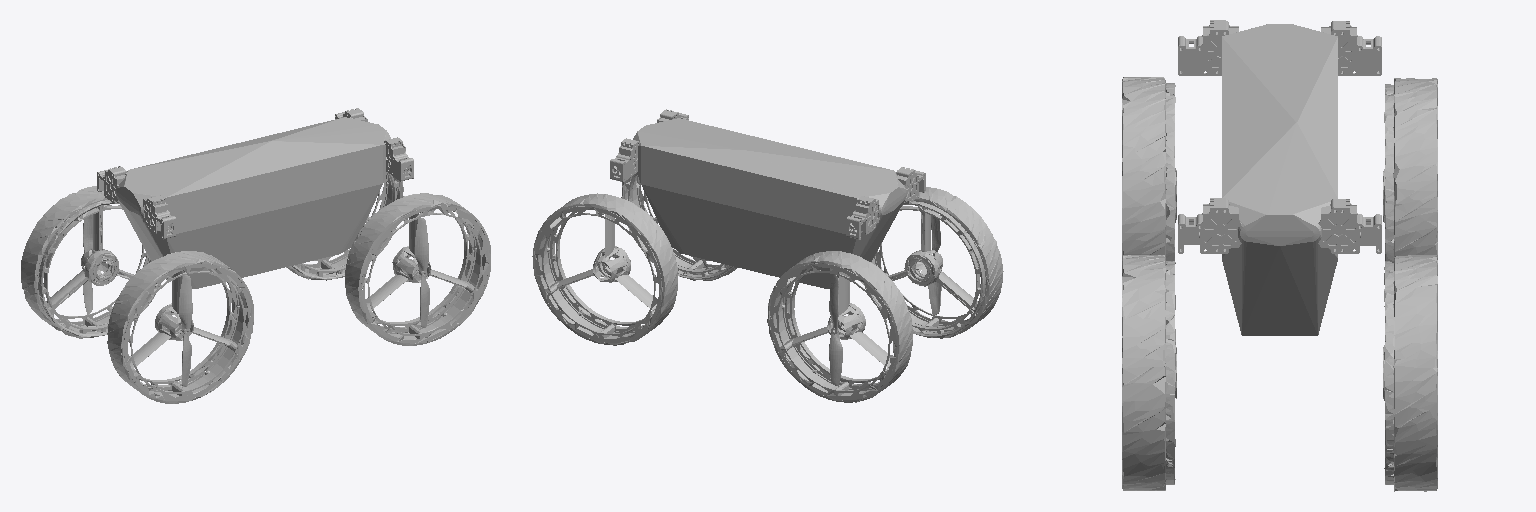
--- What the picture shows (computed from the rendered views, not written in the file) ---
3 views of the same robot in one strip: view 1: azimuth 30°, elevation 25°; view 2: azimuth 150°, elevation 25°; view 3: azimuth 270°, elevation 25° (orthographic).
Robot: m4assembly — 25 links, 24 joints (10 revolute, 4 continuous, 10 fixed); root link base_link; default pose: every joint at zero.
Visible links, largest first — view 1: base_link, rear_right_wheel, front_right_wheel, rear_left_wheel, front_left_wheel, front_right_blade, rear_right_blade, rear_right_hip, front_right_hip, rear_left_hip, rear_left_blade; view 2: base_link, front_left_wheel, rear_left_wheel, rear_right_wheel, front_right_wheel, rear_left_blade, rear_left_hip, front_left_hip, rear_right_hip, rear_right_blade; view 3: base_link, front_right_wheel, front_left_wheel, rear_right_wheel, rear_left_wheel, front_right_hip, front_left_hip, rear_right_hip, rear_left_hip.
Boxes of the visible links, x1=… form: base_link: x1=115, y1=117, x2=390, y2=288; rear_right_wheel: x1=107, y1=251, x2=253, y2=403; front_right_wheel: x1=345, y1=193, x2=490, y2=345; rear_left_wheel: x1=21, y1=186, x2=161, y2=338; front_left_wheel: x1=286, y1=172, x2=403, y2=280; front_right_blade: x1=415, y1=218, x2=429, y2=327; rear_right_blade: x1=179, y1=275, x2=192, y2=386; rear_right_hip: x1=143, y1=195, x2=175, y2=239; front_right_hip: x1=384, y1=137, x2=413, y2=181; rear_left_hip: x1=97, y1=166, x2=126, y2=202; rear_left_blade: x1=83, y1=210, x2=92, y2=315; base_link: x1=633, y1=118, x2=906, y2=288; front_left_wheel: x1=532, y1=193, x2=677, y2=345; rear_left_wheel: x1=767, y1=251, x2=912, y2=402; rear_right_wheel: x1=865, y1=187, x2=1003, y2=338; front_right_wheel: x1=621, y1=173, x2=737, y2=280; rear_left_blade: x1=829, y1=274, x2=842, y2=386; rear_left_hip: x1=846, y1=196, x2=879, y2=239; front_left_hip: x1=610, y1=138, x2=639, y2=181; rear_right_hip: x1=896, y1=167, x2=925, y2=203; rear_right_blade: x1=928, y1=210, x2=941, y2=314; base_link: x1=1222, y1=24, x2=1337, y2=335; front_right_wheel: x1=1122, y1=255, x2=1176, y2=490; front_left_wheel: x1=1383, y1=255, x2=1437, y2=491; rear_right_wheel: x1=1122, y1=77, x2=1176, y2=260; rear_left_wheel: x1=1383, y1=78, x2=1437, y2=306; front_right_hip: x1=1178, y1=198, x2=1241, y2=253; front_left_hip: x1=1318, y1=199, x2=1381, y2=253; rear_right_hip: x1=1178, y1=20, x2=1238, y2=75; rear_left_hip: x1=1321, y1=21, x2=1381, y2=75.
Bounding box of the posed robot: 0.6978 × 0.335 × 0.3336 m (x, y, z).
Meshes: 18 distinct files referenced, 12 mesh visuals loaded (12 binary STL); not drawn: 7 (reference not matched to a file when rendering).

URDF robot description (m4assembly):
<?xml version="1.0" encoding="utf-8"?>

<robot name="m4assembly">
  <joint name="m4/ground_truth/odometry_sensorgt_joint" type="revolute">
    <parent link="base_link"/>
    <child link="m4/ground_truth/odometry_sensorgt_link"/>
    <origin xyz="0      0      0.19492" rpy="0 0 0"/>
    <axis xyz="0 0 1"/>
    <limit lower="0.0" upper="0.0" effort="0.0" velocity="0.0"/>
  </joint>
  <joint name="m4/imu_joint" type="revolute">
    <parent link="base_link"/>
    <child link="m4/imu_link"/>
    <origin xyz="0      0      0.19492" rpy="0 0 0"/>
    <axis xyz="0 0 1"/>
    <limit lower="0.0" upper="0.0" effort="0.0" velocity="0.0"/>
  </joint>
  <link name="m4/ground_truth/odometry_sensorgt_link">
    <inertial>
      <mass value="0.001"/>
      <origin xyz="0 0 0" rpy="0 0 0"/>
      <inertia ixx="0.0001" ixy="0" ixz="0" iyy="0.0002" iyz="0" izz="0.0002"/>
    </inertial>
  </link>
  <link name="m4/imu_link">
   <inertial>
      <mass value="0.001"/>
      <origin xyz="0 0 0" rpy="0 0 0"/>
      <inertia ixx="0.00001" ixy="0" ixz="0" iyy="0.00002" iyz="0" izz="0.00002"/>
   </inertial>
  </link>
  <link
    name="base_link">
    <inertial>
      <origin
        xyz="0.00014012 -1.2866E-05 -0.067235"
        rpy="0 0 0" />
      <mass
        value="1.054" />
      <inertia
        ixx="0.00066925"
        ixy="-1.7138E-07"
        ixz="8.4179E-07"
        iyy="0.0060916"
        iyz="-5.4732E-08"
        izz="0.006372" />
    </inertial>
    <visual>
      <origin
        xyz="0 0 0"
        rpy="0 0 0" />
      <geometry>
        <mesh
          filename="package://simulation_world/meshes/base_link.STL" />
      </geometry>
      <material
        name="">
        <color
          rgba="0.75294 0.75294 0.75294 1" />
      </material>
    </visual>
    <collision>
      <origin
        xyz="0 0 0"
        rpy="0 0 0" />
      <geometry>
        <mesh
          filename="package://simulation_world/meshes/col/base_link.STL" />
      </geometry>
    </collision>
  </link>
  <link
    name="rear_left_hip">
    <inertial>
      <origin
        xyz="0.032048263261567 0.00148857273521091 0.000801285389170403"
        rpy="0 0 0" />
      <mass
        value="0.0631744337027232" />
      <inertia
        ixx="1.00187470871694E-05"
        ixy="1.26346518144828E-06"
        ixz="-1.71088892144535E-13"
        iyy="1.47423630145446E-05"
        iyz="-3.33426314544602E-14"
        izz="2.18314090226691E-05" />
    </inertial>
    <visual>
      <origin
        xyz="0 0 0"
        rpy="0 0 0" />
      <geometry>
        <mesh
          filename="package://simulation_world/meshes/rear_left_hip.STL" />
      </geometry>
      <material
        name="">
        <color
          rgba="0.752941176470588 0.752941176470588 0.752941176470588 1" />
      </material>
    </visual>
    <collision>
      <origin
        xyz="0 0 0"
        rpy="0 0 0" />
      <geometry>
        <mesh
          filename="package://simulation_world/meshes/col/rear_left_hip.STL" />
      </geometry>
    </collision>
  </link>
  <joint
    name="rear_left_hip_joint"
    type="revolute">
    <origin
      xyz="-0.2231 0.0323 -0.02605"
      rpy="1.5708 0 1.5708" />
    <parent
      link="base_link" />
    <child
      link="rear_left_hip" />
    <axis
      xyz="0 0 1" />
    <limit
      lower="0"
      upper="1.5708"
      effort="200.5"
      velocity="0" />
    <dynamics damping="2" friction="100"/>
  </joint>
  <link
    name="rear_left_leg">
    <inertial>
      <origin
        xyz="-3.41455978458693E-06 0.0865094820933296 -0.00425258484840052"
        rpy="0 0 0" />
      <mass
        value="0.208886814057311" />
      <inertia
        ixx="7.70084638154863E-05"
        ixy="9.13752456418355E-09"
        ixz="3.41558069671286E-07"
        iyy="5.22430908180149E-05"
        iyz="-3.49227338347394E-08"
        izz="5.21652155907927E-05" />
    </inertial>
    <visual>
      <origin
        xyz="0 0 0"
        rpy="0 0 0" />
      <geometry>
        <mesh
          filename="package://simulation_world/meshes/rear_left_leg.STL" />
      </geometry>
      <material
        name="">
        <color
          rgba="0.752941176470588 0.752941176470588 0.752941176470588 1" />
      </material>
    </visual>
    <collision>
      <origin
        xyz="0 0 0"
        rpy="0 0 0" />
      <geometry>
        <mesh
          filename="package://simulation_world/meshes/col/rear_left_leg.STL" />
      </geometry>
    </collision>
  </link>
  <joint
    name="rear_left_leg_joint"
    type="fixed">
    <origin
      xyz="0.0611 -0.006895 -5E-05"
      rpy="1.5708 -1.5526 1.5708" />
    <parent
      link="rear_left_hip" />
    <child
      link="rear_left_leg" />
    <axis
      xyz="0 0 -1" />
  </joint>
  <link
    name="rear_left_wheel">
    <inertial>
      <origin
        xyz="-1.2835011736767E-06 2.34490590667047E-07 -0.0298825868697071"
        rpy="0 0 0" />
      <mass
        value="0.447367748033206" />
      <inertia
        ixx="0.00104268899323013"
        ixy="-3.91603340525233E-08"
        ixz="3.60415118706037E-11"
        iyy="0.00104263881447407"
        iyz="-3.26123864995785E-11"
        izz="0.00200352361648073" />
    </inertial>
    <visual>
      <origin
        xyz="0 0 0"
        rpy="0 0 0" />
      <geometry>
        <mesh
          filename="package://simulation_world/meshes/rear_left_wheel.STL" />
      </geometry>
      <material
        name="">
        <color
          rgba="0.752941176470588 0.752941176470588 0.752941176470588 1" />
      </material>
    </visual>
    <collision>
      <origin
        xyz="0 0 0"
        rpy="0 0 0" />
      <geometry>
        <mesh
          filename="package://simulation_world/meshes/col/rear_left_wheel.STL" />
      </geometry>
    </collision>
  </link>
  <joint
    name="rear_left_wheel_joint"
    type="continuous">
    <origin
      xyz="0 0.162 0.011129"
      rpy="-3.1416 0 0.018227" />
    <parent
      link="rear_left_leg" />
    <child
      link="rear_left_wheel" />
    <axis
      xyz="0 0 -1" />
    <limit
      effort="200"
      velocity="200" />
  </joint>
  <link
    name="rear_left_blade">
    <inertial>
      <origin
        xyz="0 0 0.0082946342231609"
        rpy="0 0 0" />
      <mass
        value="0.00610274937825579" />
      <inertia ixx="9.75e-06" ixy="0" ixz="0" iyy="0.000166704" iyz="0" izz="0.000167604"/>
    </inertial>
    <visual>
      <origin
        xyz="0 0 0"
        rpy="0 0 0" />
      <geometry>
        <mesh
          filename="package://simulation_world/meshes/rear_left_blade.STL" />
      </geometry>
      <material
        name="">
        <color
          rgba="0.752941176470588 0.752941176470588 0.752941176470588 1" />
      </material>
    </visual>
    <collision>
      <origin
        xyz="0 0 0"
        rpy="0 0 0" />
      <geometry>
        <cylinder radius="0.1" length="0.005"/>
      </geometry>
    </collision>
  </link>
  <joint
    name="rear_left_blade_joint"
    type="revolute">
    <origin
      xyz="0 0.162 0.061129"
      rpy="-0.0099006 0 0.018227" />
    <parent
      link="rear_left_leg" />
    <child
      link="rear_left_blade" />
    <axis
      xyz="0 -0.0099004 0.99995" />
    <limit lower="-1e+16" upper="1e+16" effort="10000" velocity="10000"/>
  </joint>
  <link
    name="rear_right_hip">
    <inertial>
      <origin
        xyz="0.0320482634870919 0.00148857274187802 -0.000820989548367512"
        rpy="0 0 0" />
      <mass
        value="0.0631744341018766" />
      <inertia
        ixx="1.00187470810585E-05"
        ixy="1.26346518895748E-06"
        ixz="-1.58209935155058E-13"
        iyy="1.47423629783338E-05"
        iyz="-2.99342928986296E-14"
        izz="2.18314089935792E-05" />
    </inertial>
    <visual>
      <origin
        xyz="0 0 0"
        rpy="0 0 0" />
      <geometry>
        <mesh
          filename="package://simulation_world/meshes/rear_right_hip.STL" />
      </geometry>
      <material
        name="">
        <color
          rgba="0.752941176470588 0.752941176470588 0.752941176470588 1" />
      </material>
    </visual>
    <collision>
      <origin
        xyz="0 0 0"
        rpy="0 0 0" />
      <geometry>
        <mesh
          filename="package://simulation_world/meshes/col/rear_right_hip.STL" />
      </geometry>
    </collision>
  </link>
  <joint
    name="rear_right_hip_joint"
    type="revolute">
    <origin
      xyz="-0.2235 -0.0323 -0.02605"
      rpy="1.5708 0 -1.5708" />
    <parent
      link="base_link" />
    <child
      link="rear_right_hip" />
    <axis
      xyz="0 0 1" />
    <limit
      lower="0"
      upper="1.5708"
      effort="200.5"
      velocity="0" />
    <dynamics damping="2" friction="100"/>
  </joint>
  <link
    name="rear_right_leg">
    <inertial>
      <origin
        xyz="3.41455156416259E-06 0.0865094821571721 0.00425258483326613"
        rpy="0 0 0" />
      <mass
        value="0.208886814304404" />
      <inertia
        ixx="7.70084638389827E-05"
        ixy="-9.13752631729426E-09"
        ixz="3.41558058672973E-07"
        iyy="5.22430908411789E-05"
        iyz="3.49227166953638E-08"
        izz="5.21652156031499E-05" />
    </inertial>
    <visual>
      <origin
        xyz="0 0 0"
        rpy="0 0 0" />
      <geometry>
        <mesh
          filename="package://simulation_world/meshes/rear_right_leg.STL" />
      </geometry>
      <material
        name="">
        <color
          rgba="0.752941176470588 0.752941176470588 0.752941176470588 1" />
      </material>
    </visual>
    <collision>
      <origin
        xyz="0 0 0"
        rpy="0 0 0" />
      <geometry>
        <mesh
          filename="package://simulation_world/meshes/col/rear_right_leg.STL" />
      </geometry>
    </collision>
  </link>
  <joint
    name="rear_right_leg_joint"
    type="fixed">
    <origin
      xyz="0.0611 -0.006895 0"
      rpy="3.1416 1.5708 0" />
    <parent
      link="rear_right_hip" />
    <child
      link="rear_right_leg" />
    <axis
      xyz="0 0 1" />
  </joint>
  <link
    name="rear_right_wheel">
    <inertial>
      <origin
        xyz="-1.78659846361562E-08 -2.01874887645337E-06 0.0255799203790625"
        rpy="0 0 0" />
      <mass
        value="0.447367750743676" />
      <inertia
        ixx="0.0010426206896193"
        ixy="-2.73561891555305E-10"
        ixz="3.48030847023143E-11"
        iyy="0.00104270712224184"
        iyz="3.22928670574781E-11"
        izz="0.00200352362095162" />
    </inertial>
    <visual>
      <origin
        xyz="0 0 0"
        rpy="0 0 0" />
      <geometry>
        <mesh
          filename="package://simulation_world/meshes/rear_right_wheel.STL" />
      </geometry>
      <material
        name="">
        <color
          rgba="0.752941176470588 0.752941176470588 0.752941176470588 1" />
      </material>
    </visual>
    <collision>
      <origin
        xyz="0 0 0"
        rpy="0 0 0" />
      <geometry>
        <mesh
          filename="package://simulation_world/meshes/col/rear_right_wheel.STL" />
      </geometry>
    </collision>
  </link>
  <joint
    name="rear_right_wheel_joint"
    type="continuous">
    <origin
      xyz="0 0.162 -0.015431"
      rpy="3.1416 0 0" />
    <parent
      link="rear_right_leg" />
    <child
      link="rear_right_wheel" />
    <axis
      xyz="0 0 -1" />
    <limit
      effort="200"
      velocity="200" />
  </joint>
  <link
    name="rear_right_blade">
    <inertial>
      <origin
        xyz="0 0 0.00399237045178649"
        rpy="0 0 0" />
      <mass
        value="0.00610270077025495" />
      <inertia ixx="9.75e-06" ixy="0" ixz="0" iyy="0.000166704" iyz="0" izz="0.000167604"/>
    </inertial>
    <visual>
      <origin
        xyz="0 0 0"
        rpy="0 0 0" />
      <geometry>
        <mesh
          filename="package://simulation_world/meshes/rear_right_blade.STL" />
      </geometry>
      <material
        name="">
        <color
          rgba="0.752941176470588 0.752941176470588 0.752941176470588 1" />
      </material>
    </visual>
    <collision>
      <origin
        xyz="0 0 0"
        rpy="0 0 0" />
      <geometry>
        <mesh
          filename="package://simulation_world/meshes/col/rear_right_blade.STL" />
      </geometry>
    </collision>
  </link>
  <joint
    name="rear_right_blade_joint"
    type="revolute">
    <origin
      xyz="0 0.162 -0.065431"
      rpy="3.1416 0 0" />
    <parent
      link="rear_right_leg" />
    <child
      link="rear_right_blade" />
    <axis
      xyz="0 0 1" />
    <limit lower="-1e+16" upper="1e+16" effort="10000" velocity="10000"/>  
  </joint>
  <link
    name="front_left_hip">
    <inertial>
      <origin
        xyz="0.0320482633471696 0.00148857273674285 0.00169341200883941"
        rpy="0 0 0" />
      <mass
        value="0.0631744338743183" />
      <inertia
        ixx="1.00187470896772E-05"
        ixy="1.26346518496343E-06"
        ixz="-1.75127210359815E-13"
        iyy="1.474236301921E-05"
        iyz="-3.22758580937248E-14"
        izz="2.18314090243211E-05" />
    </inertial>
    <visual>
      <origin
        xyz="0 0 0"
        rpy="0 0 0" />
      <geometry>
        <mesh
          filename="package://simulation_world/meshes/front_left_hip.STL" />
      </geometry>
      <material
        name="">
        <color
          rgba="0.752941176470588 0.752941176470588 0.752941176470588 1" />
      </material>
    </visual>
    <collision>
      <origin
        xyz="0 0 0"
        rpy="0 0 0" />
      <geometry>
        <mesh
          filename="package://simulation_world/meshes/col/front_left_hip.STL" />
      </geometry>
    </collision>
  </link>
  <joint
    name="front_left_hip_joint"
    type="revolute">
    <origin
      xyz="0.22099 0.0323 -0.02605"
      rpy="1.5708 0 1.5708" />
    <parent
      link="base_link" />
    <child
      link="front_left_hip" />
    <axis
      xyz="0 0 1" />
    <limit
      lower="0"
      upper="1.5708"
      effort="200.5"
      velocity="0" />
    <dynamics damping="2" friction="100"/>
  </joint>
  <link
    name="front_left_leg">
    <inertial>
      <origin
        xyz="-3.41455576607095E-06 0.0865094821265606 -0.00425258483916741"
        rpy="0 0 0" />
      <mass
        value="0.208886814202469" />
      <inertia
        ixx="7.70084638282559E-05"
        ixy="9.13752541336675E-09"
        ixz="3.41558064254658E-07"
        iyy="5.22430908306995E-05"
        iyz="-3.49227240782923E-08"
        izz="5.21652155975951E-05" />
    </inertial>
    <visual>
      <origin
        xyz="0 0 0"
        rpy="0 0 0" />
      <geometry>
        <mesh
          filename="package://simulation_world/meshes/front_left_leg.STL" />
      </geometry>
      <material
        name="">
        <color
          rgba="0.752941176470588 0.752941176470588 0.752941176470588 1" />
      </material>
    </visual>
    <collision>
      <origin
        xyz="0 0 0"
        rpy="0 0 0" />
      <geometry>
        <mesh
          filename="package://simulation_world/meshes/col/front_left_leg.STL" />
      </geometry>
    </collision>
  </link>
  <joint
    name="front_left_leg_joint"
    type="fixed">
    <origin
      xyz="0.0611 -0.006895 0.0025144"
      rpy="-1.5708 -1.5708 -1.5708" />
    <parent
      link="front_left_hip" />
    <child
      link="front_left_leg" />
    <axis
      xyz="0 0 -1" />
  </joint>
  <link
    name="front_left_wheel">
    <inertial>
      <origin
        xyz="1.77235233511999E-08 -2.01879895370127E-06 -0.0284894545323338"
        rpy="0 0 0" />
      <mass
        value="0.447367750292981" />
      <inertia
        ixx="0.00104262069065618"
        ixy="2.74220212176939E-10"
        ixz="3.54050122778484E-11"
        iyy="0.00104270712119543"
        iyz="-3.25695335683767E-11"
        izz="0.00200352362063109" />
    </inertial>
    <visual>
      <origin
        xyz="0 0 0"
        rpy="0 0 0" />
      <geometry>
        <mesh
          filename="package://simulation_world/meshes/front_left_wheel.STL" />
      </geometry>
      <material
        name="">
        <color
          rgba="0.752941176470588 0.752941176470588 0.752941176470588 1" />
      </material>
    </visual>
    <collision>
      <origin
        xyz="0 0 0"
        rpy="0 0 0" />
      <geometry>
        <mesh
          filename="package://simulation_world/meshes/col/front_left_wheel.STL" />
      </geometry>
    </collision>
  </link>
  <joint
    name="front_left_wheel_joint"
    type="continuous">
    <origin
      xyz="0 0.162 0.012522"
      rpy="3.1416 0 0" />
    <parent
      link="front_left_leg" />
    <child
      link="front_left_wheel" />
    <axis
      xyz="0 0 -1" />
    <limit
      effort="200"
      velocity="200" />
  </joint>
  <link
    name="front_left_blade">
    <inertial>
      <origin
        xyz="0 0 0.0069019562259629"
        rpy="0 0 0" />
      <mass
        value="0.0061028301426362" />
      <inertia ixx="9.75e-06" ixy="0" ixz="0" iyy="0.000166704" iyz="0" izz="0.000167604"/>
    </inertial>
    <visual>
      <origin
        xyz="0 0 0"
        rpy="0 0 0" />
      <geometry>
        <mesh
          filename="package://simulation_world/meshes/front_left_blade.STL" />
      </geometry>
      <material
        name="">
        <color
          rgba="0.752941176470588 0.752941176470588 0.752941176470588 1" />
      </material>
    </visual>
    <collision>
      <origin
        xyz="0 0 0"
        rpy="0 0 0" />
      <geometry>
        <mesh
          filename="package://simulation_world/meshes/col/front_left_blade.STL" />
      </geometry>
    </collision>
  </link>
  <joint
    name="front_left_blade_joint"
    type="revolute">
    <origin
      xyz="0 0.162 0.062522"
      rpy="0 0 0" />
    <parent
      link="front_left_leg" />
    <child
      link="front_left_blade" />
    <axis
      xyz="0 0 1" />
    <limit lower="-1e+16" upper="1e+16" effort="10000" velocity="10000"/>
  </joint>
  <link
    name="front_right_hip">
    <inertial>
      <origin
        xyz="0.0320482634665248 0.0014885727412563 -0.00131311618414334"
        rpy="0 0 0" />
      <mass
        value="0.0631744340641276" />
      <inertia
        ixx="1.00187470815544E-05"
        ixy="1.26346518823477E-06"
        ixz="-1.57692513882067E-13"
        iyy="1.47423629788781E-05"
        iyz="-2.96148209881054E-14"
        izz="2.18314089943886E-05" />
    </inertial>
    <visual>
      <origin
        xyz="0 0 0"
        rpy="0 0 0" />
      <geometry>
        <mesh
          filename="package://simulation_world/meshes/front_right_hip.STL" />
      </geometry>
      <material
        name="">
        <color
          rgba="0.752941176470588 0.752941176470588 0.752941176470588 1" />
      </material>
    </visual>
    <collision>
      <origin
        xyz="0 0 0"
        rpy="0 0 0" />
      <geometry>
        <mesh
          filename="package://simulation_world/meshes/col/front_right_hip.STL" />
      </geometry>
    </collision>
  </link>
  <joint
    name="front_right_hip_joint"
    type="revolute">
    <origin
      xyz="0.22099 -0.0323 -0.02605"
      rpy="1.5708 0 -1.5708" />
    <parent
      link="base_link" />
    <child
      link="front_right_hip" />
    <axis
      xyz="0 0 1" />
    <limit
      lower="0"
      upper="1.5708"
      effort="200.5"
      velocity="0.0" />
    <dynamics damping="2" friction="100"/>
  </joint>
  <link
    name="front_right_leg">
    <inertial>
      <origin
        xyz="3.41455365766163E-06 0.0865094821436897 0.00425258483703411"
        rpy="0 0 0" />
      <mass
        value="0.208886814244098" />
      <inertia
        ixx="7.70084638339796E-05"
        ixy="-9.13752605384622E-09"
        ixz="3.4155806167583E-07"
        iyy="5.2243090836002E-05"
        iyz="3.49227209398553E-08"
        izz="5.21652156003534E-05" />
    </inertial>
    <visual>
      <origin
        xyz="0 0 0"
        rpy="0 0 0" />
      <geometry>
        <mesh
          filename="package://simulation_world/meshes/front_right_leg.STL" />
      </geometry>
      <material
        name="">
        <color
          rgba="0.752941176470588 0.752941176470588 0.752941176470588 1" />
      </material>
    </visual>
    <collision>
      <origin
        xyz="0 0 0"
        rpy="0 0 0" />
      <geometry>
        <mesh
          filename="package://simulation_world/meshes/col/front_right_leg.STL" />
      </geometry>
    </collision>
  </link>
  <joint
    name="front_right_leg_joint"
    type="fixed">
    <origin
      xyz="0.0611 -0.006895 -0.0021644"
      rpy="1.5708 1.5656 -1.5708" />
    <parent
      link="front_right_hip" />
    <child
      link="front_right_leg" />
    <axis
      xyz="0 0 1" />
    <limit
      lower="-0.5"
      upper="0.5"
      effort="10.5"
      velocity="1.57" />
  </joint>
  <link
    name="front_right_wheel">
    <inertial>
      <origin
        xyz="1.28310223720821E-06 2.3448596928044E-07 0.0255837574129385"
        rpy="0 0 0" />
      <mass
        value="0.447367750640603" />
      <inertia
        ixx="0.00104268899474349"
        ixy="3.91619025865096E-08"
        ixz="3.50659148166867E-11"
        iyy="0.00104263881744075"
        iyz="3.24293757397963E-11"
        izz="0.00200352362110246" />
    </inertial>
    <visual>
      <origin
        xyz="0 0 0"
        rpy="0 0 0" />
      <geometry>
        <mesh
          filename="package://simulation_world/meshes/front_right_wheel.STL" />
      </geometry>
      <material
        name="">
        <color
          rgba="0.752941176470588 0.752941176470588 0.752941176470588 1" />
      </material>
    </visual>
    <collision>
      <origin
        xyz="0 0 0"
        rpy="0 0 0" />
      <geometry>
        <mesh
          filename="package://simulation_world/meshes/col/front_right_wheel.STL" />
      </geometry>
      <contact>
        <ode>
          <mu>0.5</mu>
          <mu2>0.2</mu2>
          <kp>1000000.0</kp>
          <kd>1.0</kd>
        </ode>
      </contact>
    </collision>
  </link>
  <joint
    name="front_right_wheel_joint"
    type="continuous">
    <origin
      xyz="0 0.162 -0.015427"
      rpy="-3.1416 0 -0.0052077" />
    <parent
      link="front_right_leg" />
    <child
      link="front_right_wheel" />
    <axis
      xyz="0 0 -1" />
    <limit
      effort="200"
      velocity="200" />
  </joint>
  <link
    name="front_right_blade">
    <inertial>
      <origin
        xyz="0 0 0.0039962219905107"
        rpy="0 0 0" />
      <mass
        value="0.00610290216434297" />
      <inertia ixx="9.75e-06" ixy="0" ixz="0" iyy="0.000166704" iyz="0" izz="0.000167604"/>
    </inertial>
    <visual>
      <origin
        xyz="0 0 0"
        rpy="0 0 0" />
      <geometry>
        <mesh
          filename="package://simulation_world/meshes/front_right_blade.STL" />
      </geometry>
      <material
        name="">
        <color
          rgba="0.752941176470588 0.752941176470588 0.752941176470588 1" />
      </material>
    </visual>
    <collision>
      <origin
        xyz="0 0 0"
        rpy="0 0 0" />
      <geometry>
        <mesh
          filename="package://simulation_world/meshes/col/front_right_blade.STL" />
      </geometry>
    </collision>
  </link>
  <joint
    name="front_right_blade_joint"
    type="revolute">
    <origin
      xyz="0 0.162 -0.065427"
      rpy="-3.1416 0 -0.0052077" />
    <parent
      link="front_right_leg" />
    <child
      link="front_right_blade" />
    <axis
      xyz="0 0 1" />
    <limit lower="-1e+16" upper="1e+16" effort="10000" velocity="10000"/>
  </joint>

    <link name="front_realsense" />

  <!--
    The gazebo plugin aligns the depth data with the Z axis, with X=left and Y=up
    ROS expects the depth data along the X axis, with Y=left and Z=up
    This link only exists to give the gazebo plugin the correctly-oriented frame
  -->
  <link name="front_realsense_gazebo" />
  <joint name="front_realsense_gazebo_joint" type="fixed">
    <parent link="front_realsense"/>
    <child link="front_realsense_gazebo"/>
    <origin xyz="0.0 0 0" rpy="-1.5707963267948966 0 -1.5707963267948966"/>
  </joint>

  <gazebo reference="front_realsense">
    <turnGravityOff>true</turnGravityOff>
    <sensor type="depth" name="front_realsense_depth">
      <update_rate>30</update_rate>
      <camera>
        <!-- 75x65 degree FOV for the depth sensor -->
        <horizontal_fov>1.5184351666666667</horizontal_fov>
        <vertical_fov>1.0122901111111111</vertical_fov>

        <image>
          <width>640</width>
          <height>480</height>
          <format>R8G8B8</format>
        </image>
        <clip>
          <!-- give the color sensor a maximum range of 50m so that the simulation renders nicely -->
          <near>0.01</near>
          <far>50.0</far>
        </clip>
      </camera>
      <plugin name="kinect_controller" filename="libgazebo_ros_openni_kinect.so">
        <baseline>0.2</baseline>
        <alwaysOn>true</alwaysOn>
        <updateRate>30</updateRate>
        <cameraName>realsense</cameraName>
        <imageTopicName>color/image_raw</imageTopicName>
        <cameraInfoTopicName>color/camera_info</cameraInfoTopicName>
        <depthImageTopicName>depth/image_rect_raw</depthImageTopicName>
        <depthImageInfoTopicName>depth/camera_info</depthImageInfoTopicName>
        <pointCloudTopicName>depth/color/points</pointCloudTopicName>
        <frameName>front_realsense_gazebo</frameName>
        <pointCloudCutoff>0.105</pointCloudCutoff>
        <pointCloudCutoffMax>8.0</pointCloudCutoffMax>
        <distortionK1>0.00000001</distortionK1>
        <distortionK2>0.00000001</distortionK2>
        <distortionK3>0.00000001</distortionK3>
        <distortionT1>0.00000001</distortionT1>
        <distortionT2>0.00000001</distortionT2>
        <CxPrime>0</CxPrime>
        <Cx>0</Cx>
        <Cy>0</Cy>
        <focalLength>0</focalLength>
        <hackBaseline>0</hackBaseline>
      </plugin>
    </sensor>
  </gazebo>

  <link name="front_realsense_lens">
    <visual>
      <origin xyz="0.02 0 0" rpy="1.5707963267948966 0 1.5707963267948966" />
      <geometry>
        <mesh filename="package://realsense2_description/meshes/d435.dae" />
      </geometry>
      <material name="white" />
    </visual>
  </link>

  <joint type="fixed" name="front_realsense_lens_joint">
    <!-- Offset the camera 2cm backwards and 1cm up -->
    <origin xyz="0.24099 0 0" rpy="0 0 0" />
    <parent link="base_link" />
    <child link="front_realsense_lens" />
  </joint>
  <joint type="fixed" name="front_realsense_joint">
    <origin xyz="0.025 0 0" rpy="0 0 0" />
    <parent link="front_realsense_lens" />
    <child link="front_realsense" />
  </joint>

  <!--
    This is the second realsense which is in bottom of the m4 
  -->

    <link name="front_realsense1" />

  <!--
    The gazebo plugin aligns the depth data with the Z axis, with X=left and Y=up
    ROS expects the depth data along the X axis, with Y=left and Z=up
    This link only exists to give the gazebo plugin the correctly-oriented frame
  -->
  <link name="front_realsense_gazebo1" />
  <joint name="front_realsense_gazebo_joint1" type="fixed">
    <parent link="front_realsense1"/>
    <child link="front_realsense_gazebo1"/>
    <origin xyz="0.0 0 0" rpy="-1.5707963267948966 0 -1.5707963267948966"/>
  </joint>

  <gazebo reference="front_realsense1">
    <turnGravityOff>true</turnGravityOff>
    <sensor type="depth" name="front_realsense_depth">
      <update_rate>30</update_rate>
      <camera>
        <!-- 75x65 degree FOV for the depth sensor -->
        <horizontal_fov>1.5184351666666667</horizontal_fov>
        <vertical_fov>1.0122901111111111</vertical_fov>

        <image>
          <width>640</width>
          <height>480</height>
          <format>R8G8B8</format>
        </image>
        <clip>
          <!-- give the color sensor a maximum range of 50m so that the simulation renders nicely -->
          <near>0.01</near>
          <far>50.0</far>
        </clip>
      </camera>
      <plugin name="kinect_controller" filename="libgazebo_ros_openni_kinect.so">
        <baseline>0.2</baseline>
        <alwaysOn>true</alwaysOn>
        <updateRate>30</updateRate>
        <cameraName>realsense1</cameraName>
        <imageTopicName>color/image_raw1</imageTopicName>
        <cameraInfoTopicName>color/camera_info1</cameraInfoTopicName>
        <depthImageTopicName>depth/image_rect_raw1</depthImageTopicName>
        <depthImageInfoTopicName>depth/camera_info1</depthImageInfoTopicName>
        <pointCloudTopicName>depth/color/points1</pointCloudTopicName>
        <frameName>front_realsense_gazebo1</frameName>
        <pointCloudCutoff>0.105</pointCloudCutoff>
        <pointCloudCutoffMax>8.0</pointCloudCutoffMax>
        <distortionK1>0.00000001</distortionK1>
        <distortionK2>0.00000001</distortionK2>
        <distortionK3>0.00000001</distortionK3>
        <distortionT1>0.00000001</distortionT1>
        <distortionT2>0.00000001</distortionT2>
        <CxPrime>0</CxPrime>
        <Cx>0</Cx>
        <Cy>0</Cy>
        <focalLength>0</focalLength>
        <hackBaseline>0</hackBaseline>
      </plugin>
    </sensor>
  </gazebo>

  <link name="front_realsense_lens1">
    <visual>
      <origin xyz="0.02 0 0" rpy="1.5707963267948966 0 1.5707963267948966" />
      <geometry>
        <mesh filename="package://realsense2_description/meshes/d435.dae" />
      </geometry>
      <material name="white" />
    </visual>
  </link>

  <joint type="fixed" name="front_realsense_lens_joint1">
    <!-- Offset the camera 2cm backwards and 1cm up -->
    <origin xyz="0 0 -0.15" rpy="0 1.5708 0" />
    <parent link="base_link" />
    <child link="front_realsense_lens1" />
  </joint>
  <joint type="fixed" name="front_realsense_joint1">
    <origin xyz="0.025 0 0" rpy="0 0 0" />
    <parent link="front_realsense_lens1" />
    <child link="front_realsense1" />
  </joint>

<!-- ROS Control plugin for Gazebo -->
  <gazebo>
    <plugin name="gazebo_ros_control" filename="libgazebo_ros_control.so">
      <robotNamespace>/m4assembly</robotNamespace>
    </plugin>
  </gazebo>

  <!-- transmission -->
  <transmission name="rl_hip_trans">
    <type>transmission_interface/SimpleTransmission</type>
    <actuator name="motor1">
      <mechanicalReduction>1</mechanicalReduction>
    </actuator>
    <joint name="rear_left_hip_joint">
      <hardwareInterface>hardware_interface/EffortJointInterface</hardwareInterface>
    </joint>
  </transmission>

  <transmission name="rl_wheel_trans">
    <type>transmission_interface/SimpleTransmission</type>
    <actuator name="motor3">
      <mechanicalReduction>1</mechanicalReduction>
    </actuator>
    <joint name="rear_left_wheel_joint">
      <hardwareInterface>hardware_interface/VelocityJointInterface</hardwareInterface>
    </joint>
  </transmission>

  <transmission name="rr_hip_trans">
    <type>transmission_interface/SimpleTransmission</type>
    <actuator name="motor5">
      <mechanicalReduction>1</mechanicalReduction>
    </actuator>
    <joint name="rear_right_hip_joint">
      <hardwareInterface>hardware_interface/EffortJointInterface</hardwareInterface>
    </joint>
  </transmission>

  <transmission name="rr_wheel_trans">
    <type>transmission_interface/SimpleTransmission</type>
    <actuator name="motor7">
      <mechanicalReduction>1</mechanicalReduction>
    </actuator>
    <joint name="rear_right_wheel_joint">
      <hardwareInterface>hardware_interface/VelocityJointInterface</hardwareInterface>
    </joint>
  </transmission>

  <transmission name="fl_hip_trans">
    <type>transmission_interface/SimpleTransmission</type>
    <actuator name="motor9">
      <mechanicalReduction>1</mechanicalReduction>
    </actuator>
    <joint name="front_left_hip_joint">
      <hardwareInterface>hardware_interface/EffortJointInterface</hardwareInterface>
    </joint>
  </transmission>

  <transmission name="fl_wheel_trans">
    <type>transmission_interface/SimpleTransmission</type>
    <actuator name="motor11">
      <mechanicalReduction>1</mechanicalReduction>
    </actuator>
    <joint name="front_left_wheel_joint">
      <hardwareInterface>hardware_interface/VelocityJointInterface</hardwareInterface>
    </joint>
  </transmission>

  <transmission name="fr_hip_trans">
    <type>transmission_interface/SimpleTransmission</type>
    <actuator name="motor13">
      <mechanicalReduction>1</mechanicalReduction>
    </actuator>
    <joint name="front_right_hip_joint">
      <hardwareInterface>hardware_interface/EffortJointInterface</hardwareInterface>
    </joint>
  </transmission>

  <transmission name="fr_wheel_trans">
    <type>transmission_interface/SimpleTransmission</type>
    <actuator name="motor12">
      <mechanicalReduction>1</mechanicalReduction>
    </actuator>
    <joint name="front_right_wheel_joint">
      <hardwareInterface>hardware_interface/VelocityJointInterface</hardwareInterface>
    </joint>
  </transmission>
  

  <gazebo reference="m4/imu_link">
    <gravity>true</gravity>
    <sensor name="imu_sensor" type="imu">
      <always_on>true</always_on>
      <update_rate>1000</update_rate>
      <visualize>true</visualize>
      <topic>__default_topic__</topic>
      <plugin filename="libgazebo_ros_imu_sensor.so" name="imu_plugin">
        <topicName>imu_link</topicName>
        <bodyName>m4/imu_link</bodyName>
        <updateRateHZ>10.0</updateRateHZ>
        <gaussianNoise>0.0</gaussianNoise>
        <xyzOffset>0 0 0</xyzOffset>
        <rpyOffset>0 0 0</rpyOffset>
        <frameName>imu_link</frameName>
        <initialOrientationAsReference>false</initialOrientationAsReference>
      </plugin>
      <pose>0 0 0 3.141593 0 0</pose>
    </sensor>
  </gazebo>
  <gazebo>
    <plugin name="p3d_base_controller" filename="libgazebo_ros_p3d.so">
      <alwaysOn>true</alwaysOn>
      <updateRate>50.0</updateRate>
      <bodyName>base_link</bodyName>
      <topicName>ground_truth/state</topicName>
      <gaussianNoise>0.01</gaussianNoise>
      <frameName>world</frameName>
      <xyzOffsets>0 0 0</xyzOffsets>
      <rpyOffsets>0 0 0</rpyOffsets>
    </plugin>
    <plugin name="rotor_0_blade_1" filename="libLiftDragPlugin.so">
      <a0>0.3</a0>
      <alpha_stall>1.4</alpha_stall>
      <cla>4.2500</cla>
      <cda>0.10</cda>
      <cma>0.00</cma>
      <cla_stall>-0.025</cla_stall>
      <cda_stall>0.0</cda_stall>
      <cma_stall>0.0</cma_stall>
      <area>0.002</area>
      <air_density>1.2041</air_density>
      <cp>0.084 0 0</cp>
      <forward>0 1 0</forward>
      <upward>0 0 1</upward>
      <link_name>front_right_blade</link_name>
    </plugin>
    <plugin name="rotor_0_blade_2" filename="libLiftDragPlugin.so">
      <a0>0.3</a0>
      <alpha_stall>1.4</alpha_stall>
      <cla>4.2500</cla>
      <cda>0.10</cda>
      <cma>0.00</cma>
      <cla_stall>-0.025</cla_stall>
      <cda_stall>0.0</cda_stall>
      <cma_stall>0.0</cma_stall>
      <area>0.002</area>
      <air_density>1.2041</air_density>
      <cp>-0.084 0 0</cp>
      <forward>0 -1 0</forward>
      <upward>0 0 1</upward>
      <link_name>front_right_blade</link_name>
    </plugin>

    <plugin name="rotor_1_blade_1" filename="libLiftDragPlugin.so">
      <a0>0.3</a0>
      <alpha_stall>1.4</alpha_stall>
      <cla>4.2500</cla>
      <cda>0.10</cda>
      <cma>0.00</cma>
      <cla_stall>-0.025</cla_stall>
      <cda_stall>0.0</cda_stall>
      <cma_stall>0.0</cma_stall>
      <area>0.002</area>
      <air_density>1.2041</air_density>
      <cp>0.084 0 0</cp>
      <forward>0 1 0</forward>
      <upward>0 0 1</upward>
      <link_name>rear_left_blade</link_name>
    </plugin>
    <plugin name="rotor_1_blade_2" filename="libLiftDragPlugin.so">
      <a0>0.3</a0>
      <alpha_stall>1.4</alpha_stall>
      <cla>4.2500</cla>
      <cda>0.10</cda>
      <cma>0.00</cma>
      <cla_stall>-0.025</cla_stall>
      <cda_stall>0.0</cda_stall>
      <cma_stall>0.0</cma_stall>
      <area>0.002</area>
      <air_density>1.2041</air_density>
      <cp>-0.084 0 0</cp>
      <forward>0 -1 0</forward>
      <upward>0 0 1</upward>
      <link_name>rear_left_blade</link_name>
    </plugin>

    <plugin name="rotor_2_blade_1" filename="libLiftDragPlugin.so">
      <a0>0.3</a0>
      <alpha_stall>1.4</alpha_stall>
      <cla>4.2500</cla>
      <cda>0.10</cda>
      <cma>0.00</cma>
      <cla_stall>-0.025</cla_stall>
      <cda_stall>0.0</cda_stall>
      <cma_stall>0.0</cma_stall>
      <area>0.002</area>
      <air_density>1.2041</air_density>
      <cp>0.084 0 0</cp>
      <forward>0 -1 0</forward>
      <upward>0 0 1</upward>
      <link_name>front_left_blade</link_name>
    </plugin>
    <plugin name="rotor_2_blade_2" filename="libLiftDragPlugin.so">
      <a0>0.3</a0>
      <alpha_stall>1.4</alpha_stall>
      <cla>4.2500</cla>
      <cda>0.10</cda>
      <cma>0.00</cma>
      <cla_stall>-0.025</cla_stall>
      <cda_stall>0.0</cda_stall>
      <cma_stall>0.0</cma_stall>
      <area>0.002</area>
      <air_density>1.2041</air_density>
      <cp>-0.084 0 0</cp>
      <forward>0 1 0</forward>
      <upward>0 0 1</upward>
      <link_name>front_left_blade</link_name>
    </plugin>

    <plugin name="rotor_3_blade_1" filename="libLiftDragPlugin.so">
      <a0>0.3</a0>
      <alpha_stall>1.4</alpha_stall>
      <cla>4.2500</cla>
      <cda>0.10</cda>
      <cma>0.00</cma>
      <cla_stall>-0.025</cla_stall>
      <cda_stall>0.0</cda_stall>
      <cma_stall>0.0</cma_stall>
      <area>0.002</area>
      <air_density>1.2041</air_density>
      <cp>0.084 0 0</cp>
      <forward>0 -1 0</forward>
      <upward>0 0 1</upward>
      <link_name>rear_right_blade</link_name>
    </plugin>
    <plugin name="rotor_3_blade_2" filename="libLiftDragPlugin.so">
      <a0>0.3</a0>
      <alpha_stall>1.4</alpha_stall>
      <cla>4.2500</cla>
      <cda>0.10</cda>
      <cma>0.00</cma>
      <cla_stall>-0.025</cla_stall>
      <cda_stall>0.0</cda_stall>
      <cma_stall>0.0</cma_stall>
      <area>0.002</area>
      <air_density>1.2041</air_density>
      <cp>-0.084 0 0</cp>
      <forward>0 1 0</forward>
      <upward>0 0 1</upward>
      <link_name>rear_right_blade</link_name>
    </plugin>

    <plugin name="arducopter_plugin" filename="libArduPilotPlugin.so">
      <fdm_addr>127.0.0.1</fdm_addr>
      <fdm_port_in>9002</fdm_port_in>
      <fdm_port_out>9003</fdm_port_out>
      <!--
          Require by APM :
          Only change model and gazebo from XYZ to XY-Z coordinates
      -->
      <modelXYZToAirplaneXForwardZDown>0 0 0 3.141593 0 0</modelXYZToAirplaneXForwardZDown>
      <gazeboXYZToNED>0 0 0 3.141593 0 0</gazeboXYZToNED>
      <imuName>m4/imu_link::imu_sensor</imuName>
      <connectionTimeoutMaxCount>5</connectionTimeoutMaxCount>
      <control channel="0">
      <!--
          incoming control command [0, 1]
          so offset it by 0 to get [0, 1]
          and divide max target by 1.
          offset = 0
          multiplier = 838 max rpm / 1 = 838
        -->
        <type>VELOCITY</type>
        <offset>0</offset>
        <p_gain>0.2</p_gain>
        <i_gain>0</i_gain>
        <d_gain>0</d_gain>
        <i_max>0</i_max>
        <i_min>0</i_min>
        <cmd_max>2.5</cmd_max>
        <cmd_min>-2.5</cmd_min>
        <jointName>front_right_blade_joint</jointName>
        <multiplier>1898</multiplier>
        <controlVelocitySlowdownSim>1</controlVelocitySlowdownSim>
      </control>
      <control channel="1">
        <type>VELOCITY</type>
        <offset>0</offset>
        <p_gain>0.2</p_gain>
        <i_gain>0</i_gain>
        <d_gain>0</d_gain>
        <i_max>0</i_max>
        <i_min>0</i_min>
        <cmd_max>2.5</cmd_max>
        <cmd_min>-2.5</cmd_min>
        <jointName>rear_left_blade_joint</jointName>
        <multiplier>1898</multiplier>
        <controlVelocitySlowdownSim>1</controlVelocitySlowdownSim>
      </control>
      <control channel="2">
        <type>VELOCITY</type>
        <offset>0</offset>
        <p_gain>0.2</p_gain>
        <i_gain>0</i_gain>
        <d_gain>0</d_gain>
        <i_max>0</i_max>
        <i_min>0</i_min>
        <cmd_max>2.5</cmd_max>
        <cmd_min>-2.5</cmd_min>
        <jointName>front_left_blade_joint</jointName>
        <multiplier>-1898</multiplier>
        <controlVelocitySlowdownSim>1</controlVelocitySlowdownSim>
      </control>
      <control channel="3">
        <type>VELOCITY</type>
        <offset>0</offset>
        <p_gain>0.2</p_gain>
        <i_gain>0</i_gain>
        <d_gain>0</d_gain>
        <i_max>0</i_max>
        <i_min>0</i_min>
        <cmd_max>2.5</cmd_max>
        <cmd_min>-2.5</cmd_min>
        <jointName>rear_right_blade_joint</jointName>
        <multiplier>-1898</multiplier>
        <controlVelocitySlowdownSim>1</controlVelocitySlowdownSim>
      </control>
    </plugin>
  </gazebo>
</robot>
